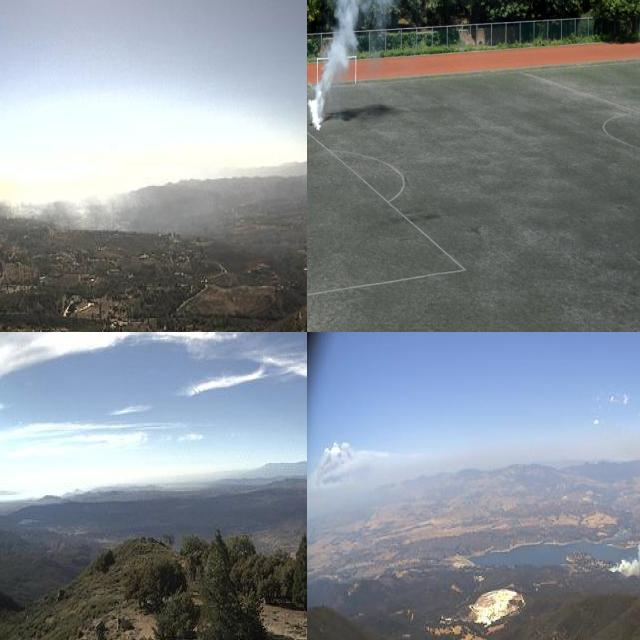smoke: (307, 0, 397, 130), (0, 171, 75, 225)
